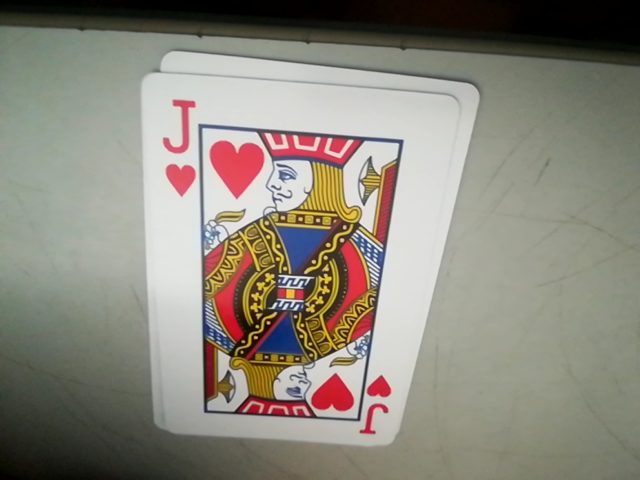hx j: (161, 97, 198, 197), (356, 374, 391, 435)
